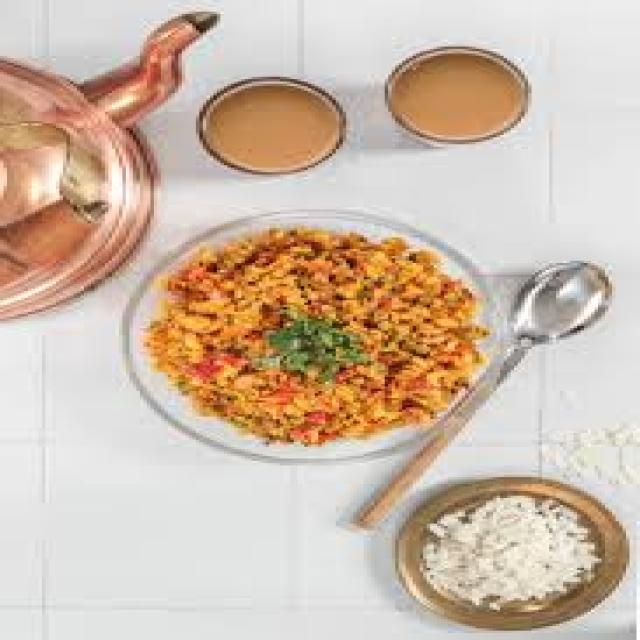POHA: (143, 230, 483, 445)
